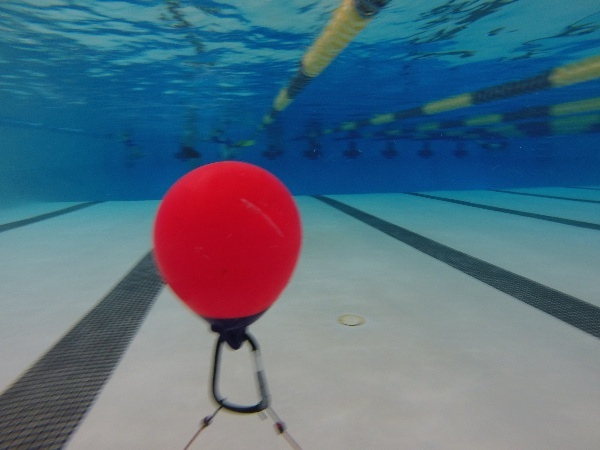buoy_red: (150, 157, 306, 348)
